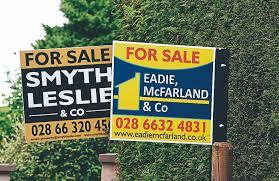property sign: (108, 35, 235, 154), (14, 37, 119, 146)
